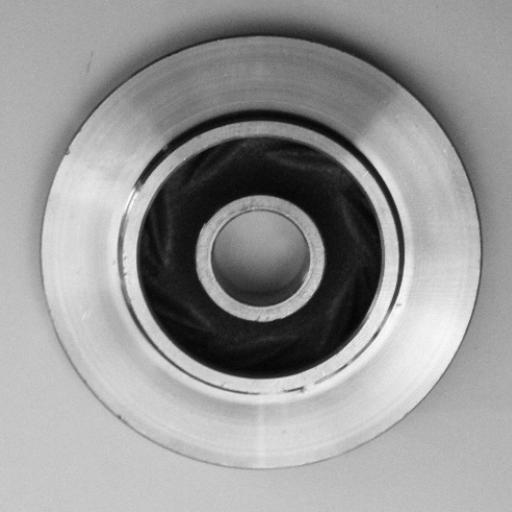scratch: (240, 368, 343, 412)
unpolished_casting: (43, 30, 484, 473)
